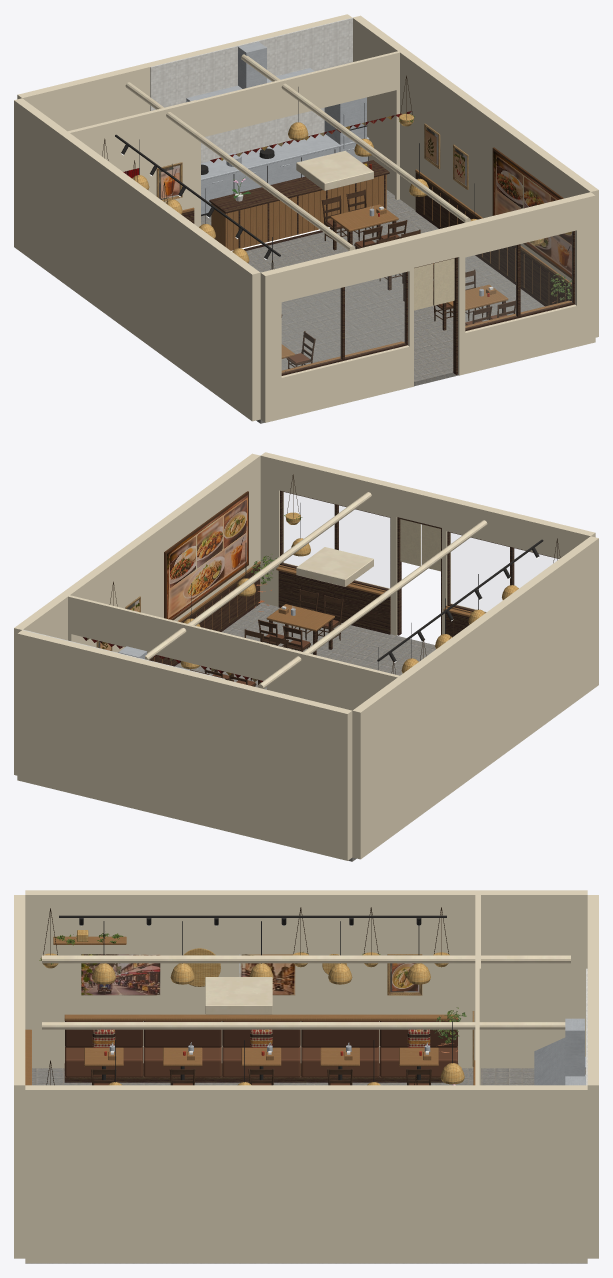
File: tz_taimi_interior.glb
The picture shows the model from 3 angles, top to bottom: view 1: azimuth 30°, elevation 25°; view 2: azimuth 150°, elevation 25°; view 3: azimuth 270°, elevation 25°; orthographic projection. The views are drawn at different scales.
Visible parts, largest first — view 1: WALL_W, WALL_S, WALL_E, S_floor, S_wall, S_tile_w, S_steel, S_wood, WALL_N, S_duct, S_pics, WALL_Efix_wood_d (+10 smaller); view 2: WALL_N, WALL_W, WALL_S, S_wall, WALL_E, WALL_Sfix_wood_d, S_duct, S_pics, S_floor, WALL_Efix_wood_d, tz_taimi_interior_inst.001, WALL_Sfix_cloth_b (+4 smaller); view 3: WALL_E, WALL_W, S_duct, S_leather, S_wood, S_leather_d, WALL_N, WALL_S, S_pics, S_wicker, S_floor, S_steel (+7 smaller).
Part boxes in pixels (x1,y1,x2,y2): WALL_W: (14, 98, 260, 421); WALL_S: (260, 192, 595, 422); WALL_E: (353, 15, 598, 337); S_floor: (201, 190, 544, 423); S_wall: (68, 51, 399, 227); S_tile_w: (150, 17, 352, 163); S_steel: (185, 41, 483, 296); S_wood: (182, 174, 508, 358); WALL_N: (17, 14, 351, 171); S_duct: (125, 54, 470, 250); S_pics: (161, 129, 571, 276); WALL_Efix_wood_d: (415, 172, 571, 306); WALL_N: (17, 630, 352, 860); WALL_W: (352, 536, 598, 859); WALL_S: (260, 452, 595, 635); S_wall: (68, 595, 399, 710); WALL_E: (14, 453, 260, 775); WALL_Sfix_wood_d: (278, 490, 558, 637); S_duct: (145, 492, 487, 688); S_pics: (100, 495, 247, 650); S_floor: (175, 602, 435, 861); WALL_Efix_wood_d: (149, 564, 260, 666); tz_taimi_interior_inst.001: (190, 589, 343, 686); WALL_Sfix_cloth_b: (400, 519, 440, 571); WALL_E: (25, 1085, 587, 1263); WALL_W: (25, 890, 587, 1068); S_duct: (42, 955, 570, 1029); S_leather: (65, 1047, 457, 1085); S_wood: (53, 936, 475, 1085); S_leather_d: (65, 1021, 457, 1047); WALL_N: (587, 895, 598, 1258); WALL_S: (14, 895, 25, 1258); S_pics: (81, 954, 417, 995); S_wicker: (41, 930, 464, 1085); S_floor: (25, 1068, 587, 1263); S_steel: (109, 1018, 585, 1085).
Bounding box in the file's own units: 8.4 × 3.5 × 10.4.
26 materials, 21 textured.
